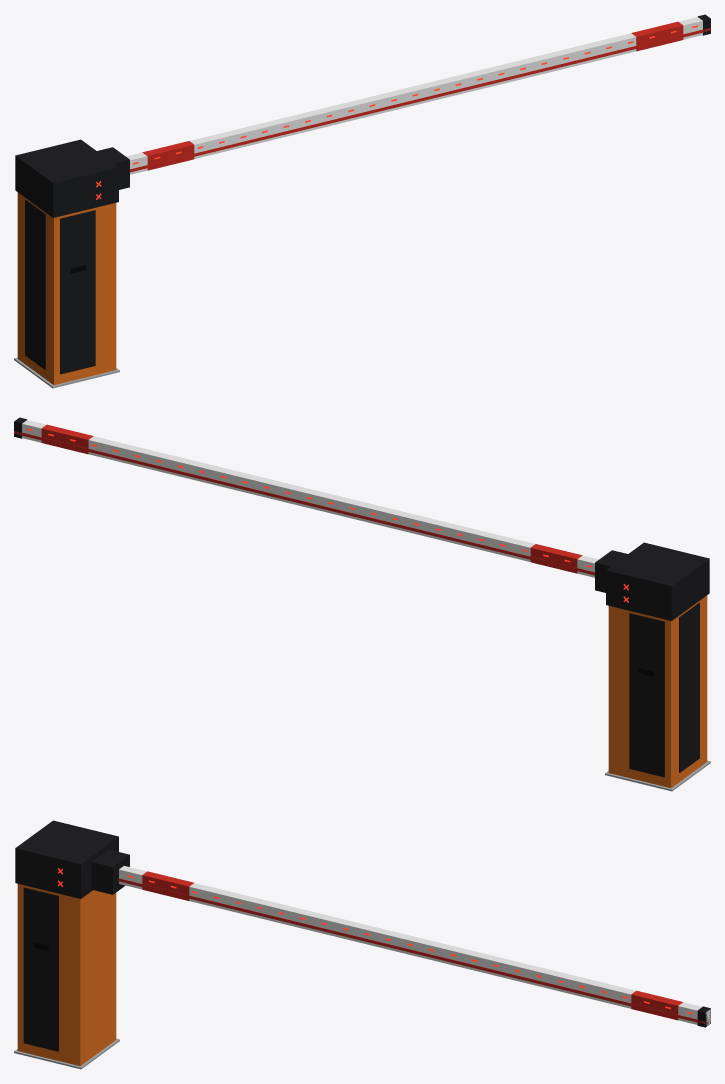
File: 6EDDAU.glb
3 views of the same model, one above another, from view 1: azimuth 30°, elevation 25°; view 2: azimuth 150°, elevation 25°; view 3: azimuth 330°, elevation 25° (orthographic).
Parts seen in each view (by area): view 1: RL_EQ|mvh8fhbi8e5ka|PPA Barrier 200; view 2: RL_EQ|mvh8fhbi8e5ka|PPA Barrier 200; view 3: RL_EQ|mvh8fhbi8e5ka|PPA Barrier 200.
Boxes of the visible parts, <box> form: RL_EQ|mvh8fhbi8e5ka|PPA Barrier 200: <box>14,14,710,388</box>; RL_EQ|mvh8fhbi8e5ka|PPA Barrier 200: <box>14,417,710,791</box>; RL_EQ|mvh8fhbi8e5ka|PPA Barrier 200: <box>14,820,710,1069</box>.
Size of the model in its own units: 3.45 by 1 by 0.344.
